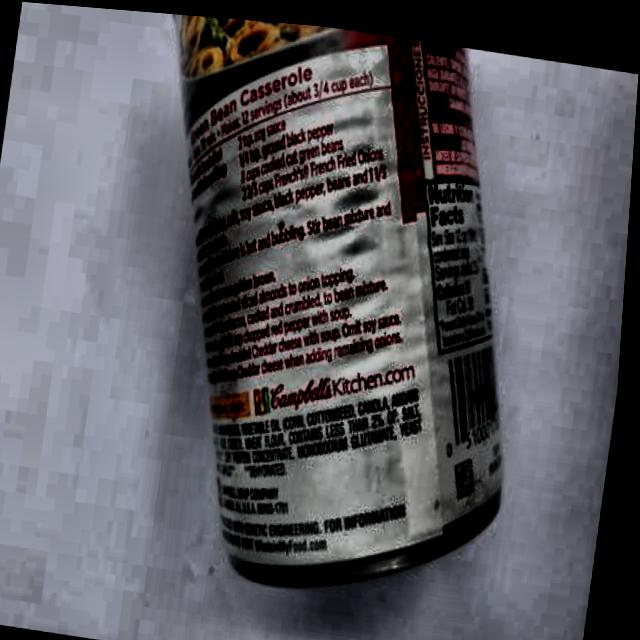Cans: (63, 6, 582, 627)
